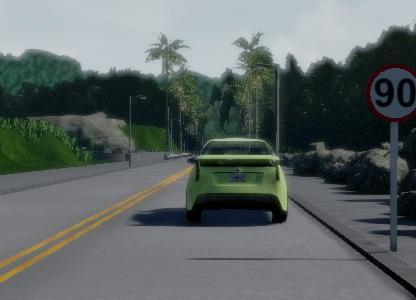Speed_90: (365, 59, 416, 123)
